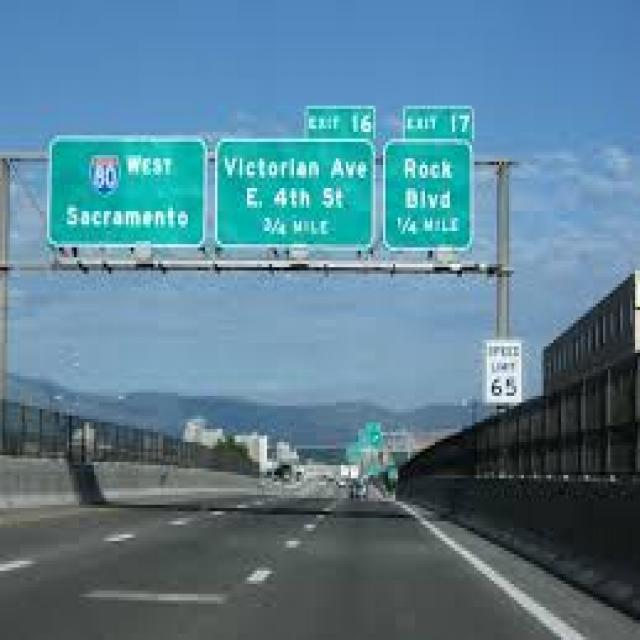street-signs: (47, 134, 208, 249), (216, 136, 376, 249), (382, 139, 476, 253), (402, 104, 476, 141), (303, 104, 376, 141)
